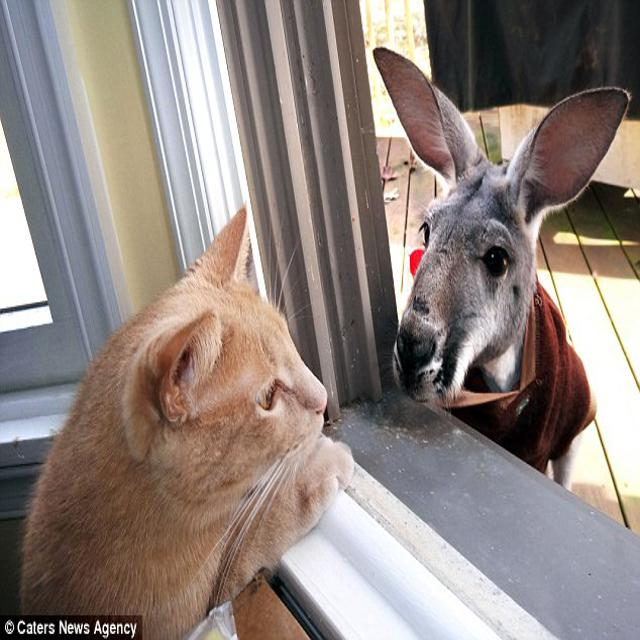kangaroo: (381, 54, 633, 401)
